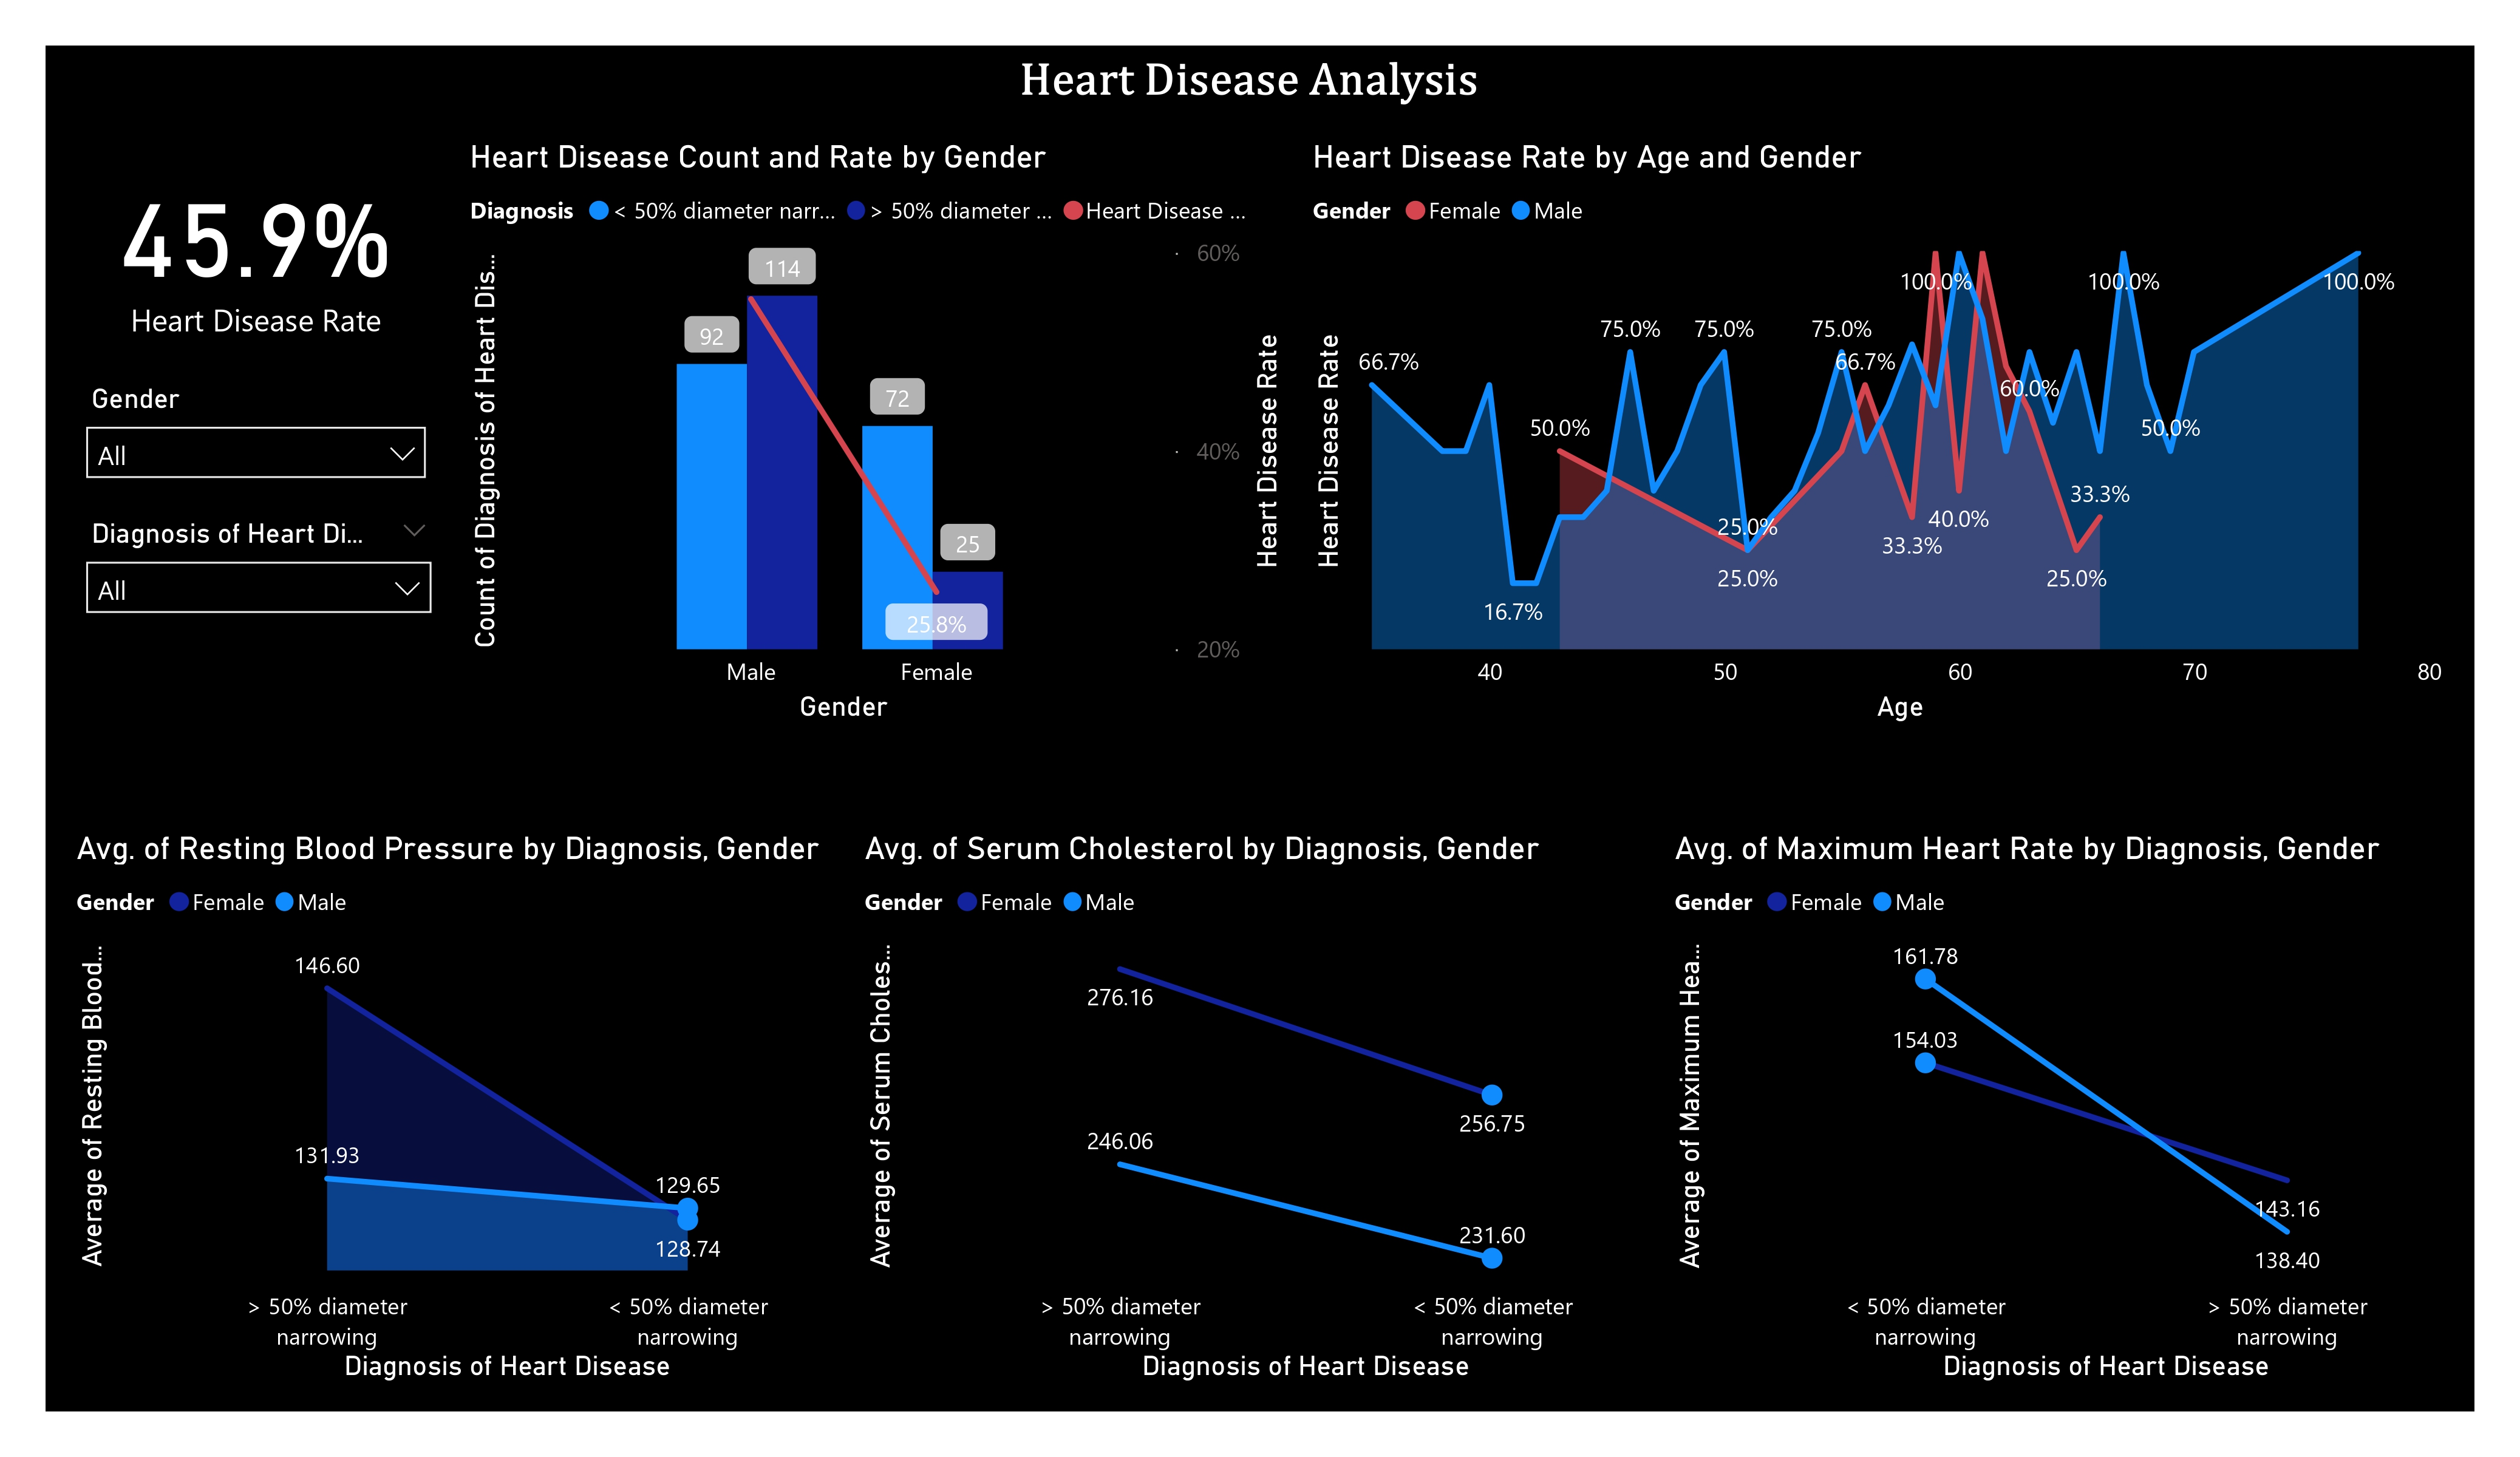

The dashboard page shown, as its layout file describes it:
{"tool":"powerbi","page":{"name":"Page 1","canvas":[1280,720],"ordinal":0},"visuals":[{"type":"lineClusteredColumnComboChart","title":"Heart Disease Count and Rate by Gender","fields":{"Y":["CountNonNull(heart_disease_dataset.Diagnosis of Heart Disease)"],"Y2":["heart_disease_dataset.Heart Disease Rate"],"Category":["heart_disease_dataset.Gender"],"Series":["heart_disease_dataset.Diagnosis of Heart Disease"]},"box":[218.6,48.3,437.3,312.6],"z":0},{"type":"areaChart","title":"Heart Disease Rate by Age and Gender","fields":{"Category":["heart_disease_dataset.Age"],"Series":["heart_disease_dataset.Gender"],"Y":["heart_disease_dataset.Heart Disease Rate"]},"box":[662.9,48.3,607.6,312.6],"z":1000},{"type":"card","fields":{"Values":["heart_disease_dataset.Heart Disease Rate"]},"box":[11.4,48.3,199.3,115.9],"z":2000},{"type":"slicer","fields":{"Values":["heart_disease_dataset.Gender"]},"box":[11.4,173,199.3,71.1],"z":3000},{"type":"slicer","fields":{"Values":["heart_disease_dataset.Diagnosis of Heart Disease"]},"box":[11.4,244.1,202,68.5],"z":4000},{"type":"areaChart","title":"Avg. of Resting Blood Pressure by Diagnosis, Gender","fields":{"Category":["heart_disease_dataset.Diagnosis of Heart Disease"],"Y":["Avg(heart_disease_dataset.Resting Blood Pressure)"],"Series":["heart_disease_dataset.Gender"]},"box":[11.4,412.7,415.3,295.9],"z":5000},{"type":"lineChart","title":"Avg. of Serum Cholesterol by Diagnosis, Gender","fields":{"Category":["heart_disease_dataset.Diagnosis of Heart Disease"],"Series":["heart_disease_dataset.Gender"],"Y":["Avg(heart_disease_dataset.Serum Cholestoral)"]},"box":[426.7,412.7,426.7,295.9],"z":6000},{"type":"lineChart","title":"Avg. of Maximum Heart Rate by Diagnosis, Gender","fields":{"Category":["heart_disease_dataset.Diagnosis of Heart Disease"],"Series":["heart_disease_dataset.Gender"],"Y":["Avg(heart_disease_dataset.Maximum Heart Rate Achieved)"]},"box":[853.5,412.7,417.1,295.9],"z":7000},{"type":"textbox","box":[508.4,0,262.5,40.4],"z":8000}]}

Visuals, with their boxes in screenshot pixels (x1, y1, x2, y2):
"Heart Disease Count and Rate by Gender" lineClusteredColumnComboChart: <region>460, 137, 1290, 730</region>
"Heart Disease Rate by Age and Gender" areaChart: <region>1304, 137, 2456, 730</region>
card - heart_disease_dataset.Heart Disease Rate: <region>67, 137, 445, 357</region>
slicer - heart_disease_dataset.Gender: <region>67, 374, 445, 509</region>
slicer - heart_disease_dataset.Diagnosis of Heart Disease: <region>67, 509, 451, 639</region>
"Avg. of Resting Blood Pressure by Diagnosis, Gender" areaChart: <region>67, 829, 855, 1390</region>
"Avg. of Serum Cholesterol by Diagnosis, Gender" lineChart: <region>855, 829, 1665, 1390</region>
"Avg. of Maximum Heart Rate by Diagnosis, Gender" lineChart: <region>1665, 829, 2457, 1390</region>
textbox: <region>1010, 46, 1508, 122</region>
